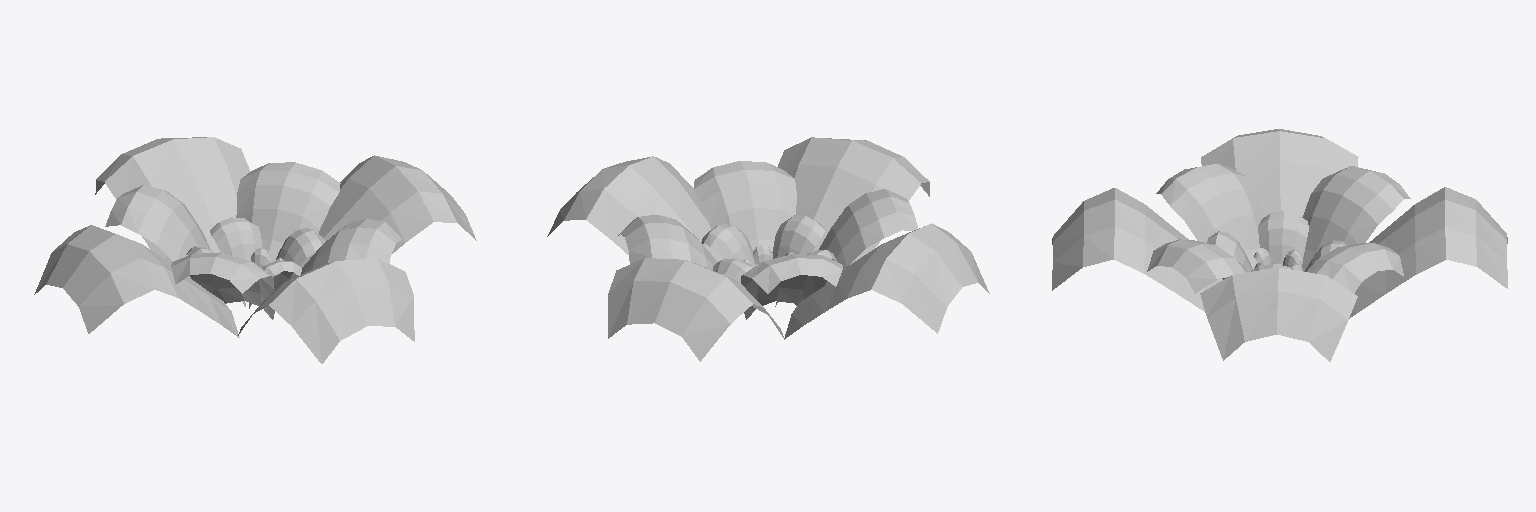
Rendered from SpikeBushUV.obj.
3 views of the same model, side by side, from view 1: azimuth 30°, elevation 25°; view 2: azimuth 150°, elevation 25°; view 3: azimuth 270°, elevation 25° (orthographic).
Parts seen in each view (by area): view 1: SPIKE_BUSH; view 2: SPIKE_BUSH; view 3: SPIKE_BUSH.
Part boxes in pixels (x1,y1,x2,y2): SPIKE_BUSH: (34, 137, 476, 363); SPIKE_BUSH: (547, 137, 989, 361); SPIKE_BUSH: (1052, 129, 1507, 361).
Size of the model in its own units: 2.44 by 0.6706 by 2.46.